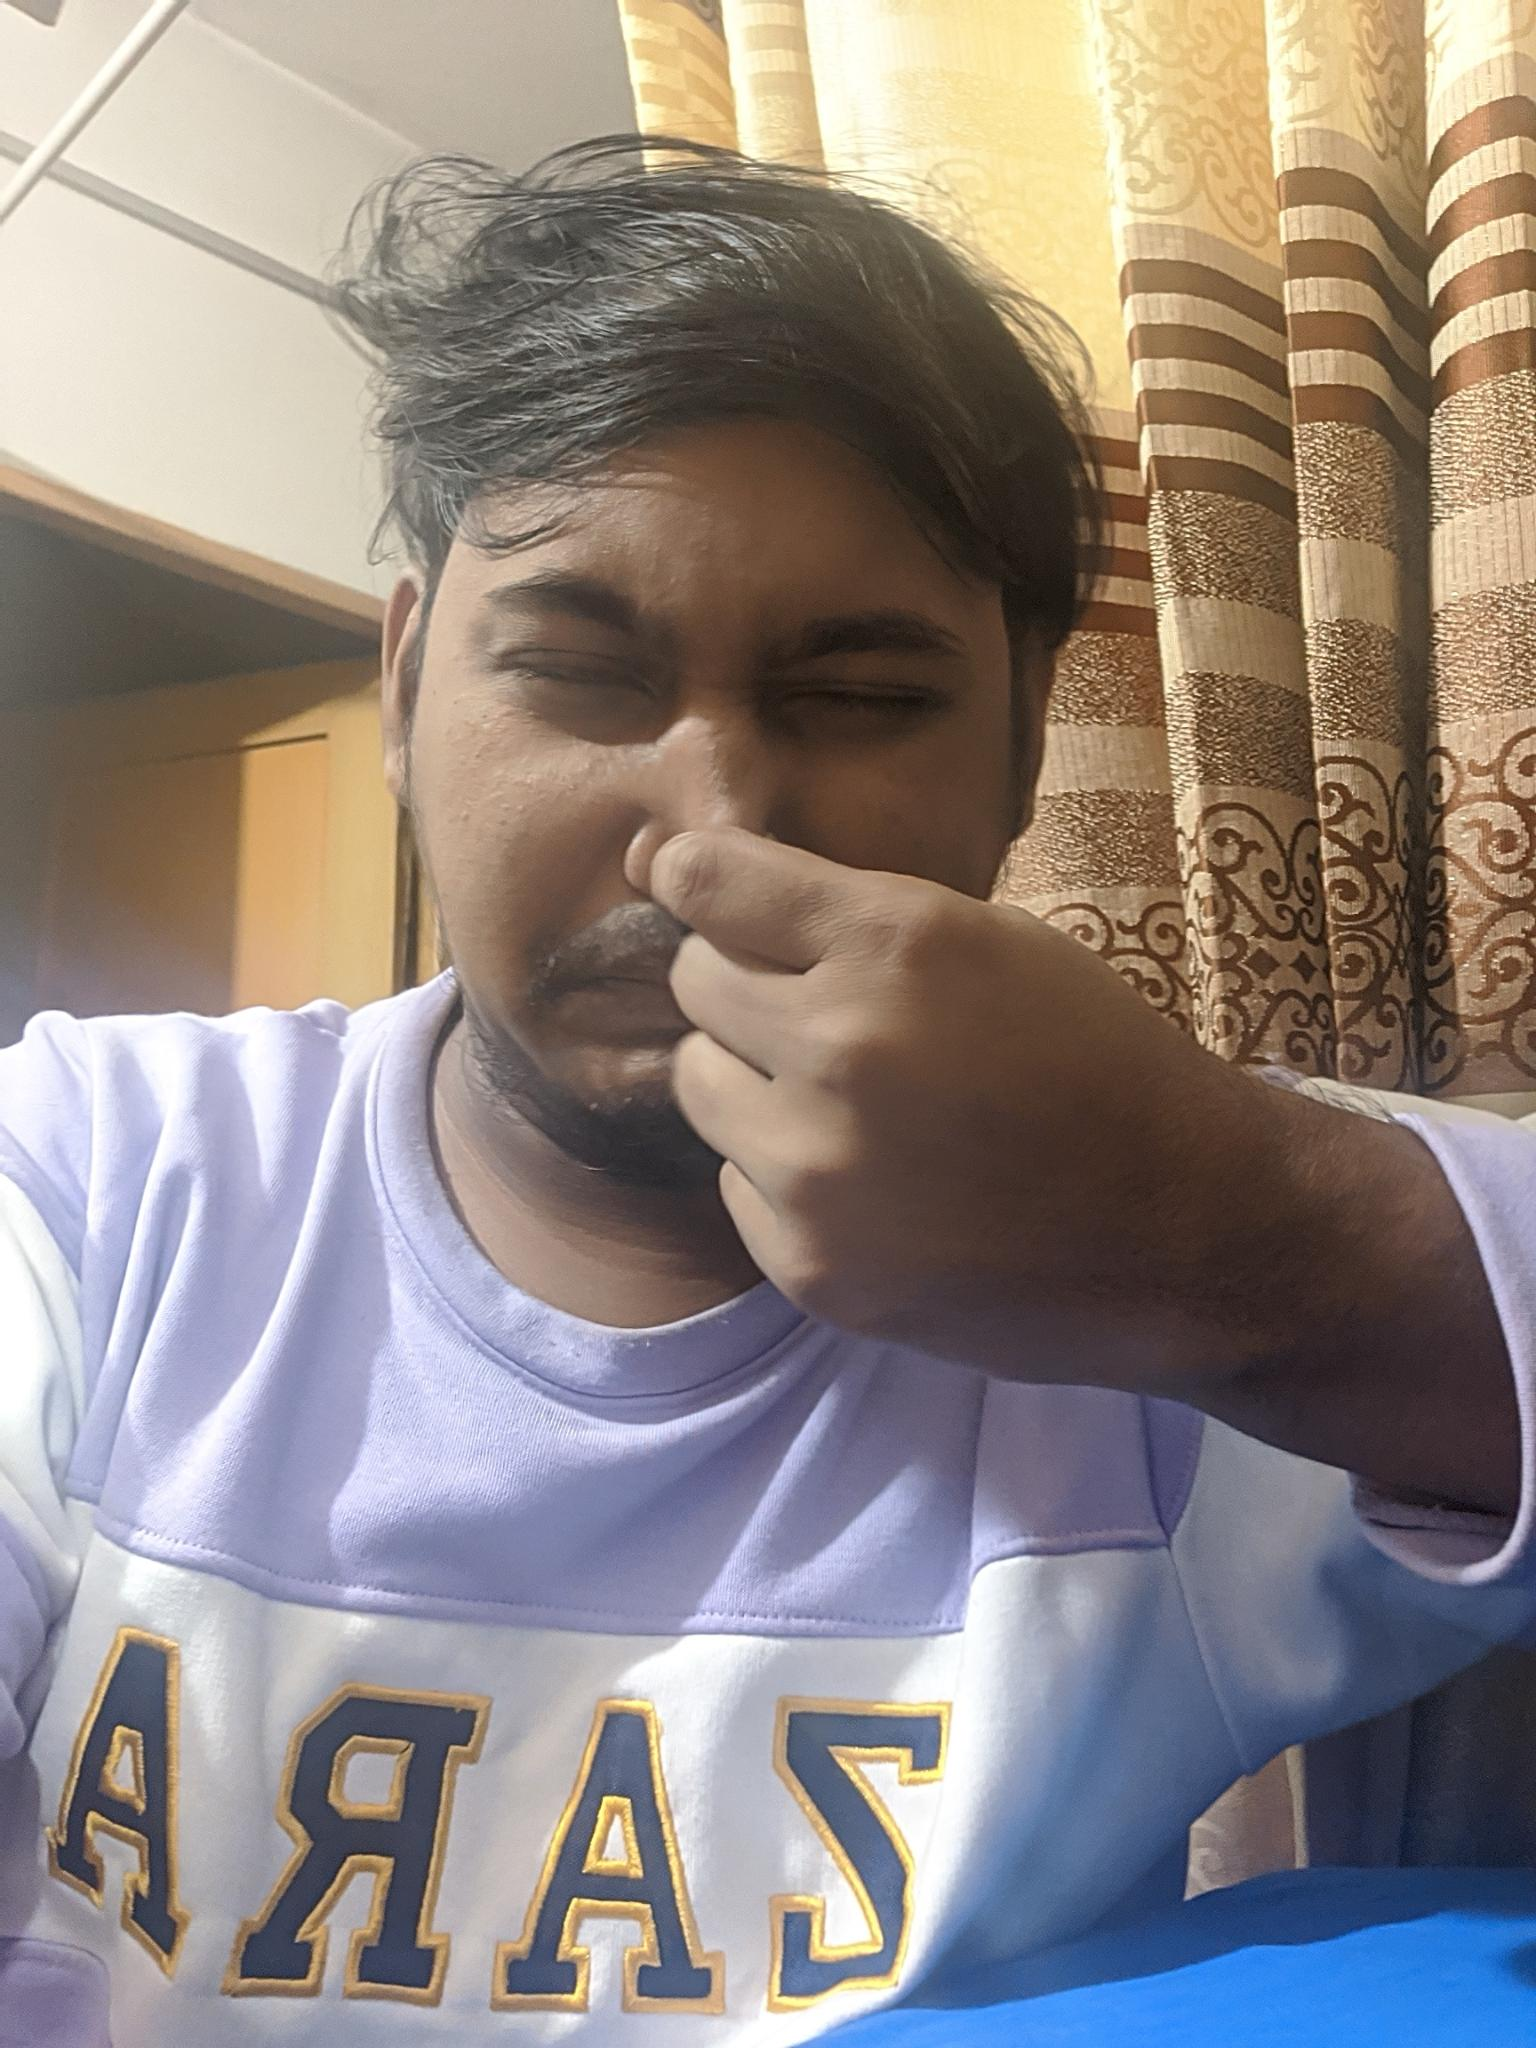Disgust: (463, 493, 1005, 1176)
